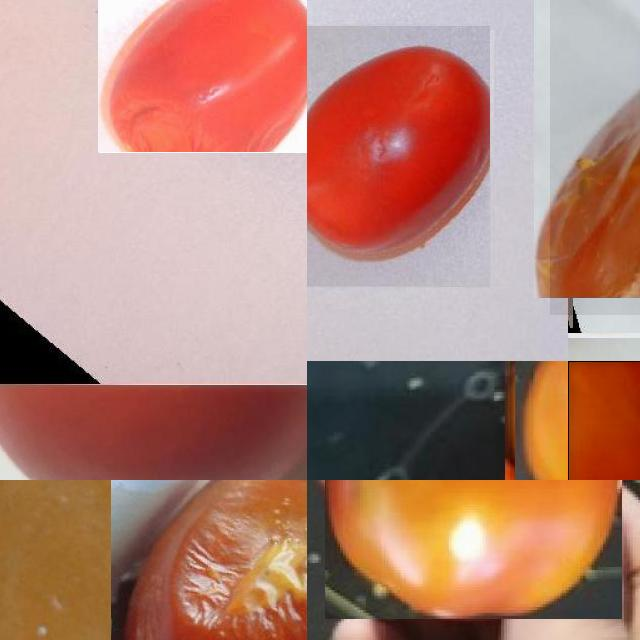0: (325, 480, 619, 619)
Fresh Tomato: (307, 26, 490, 286), (0, 384, 307, 480), (568, 361, 640, 480)
Rotten Tomato: (98, 0, 307, 152), (111, 480, 307, 640), (550, 0, 640, 315)
